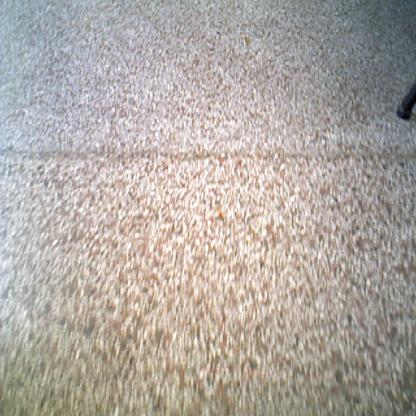dirty: (214, 208, 224, 220)
